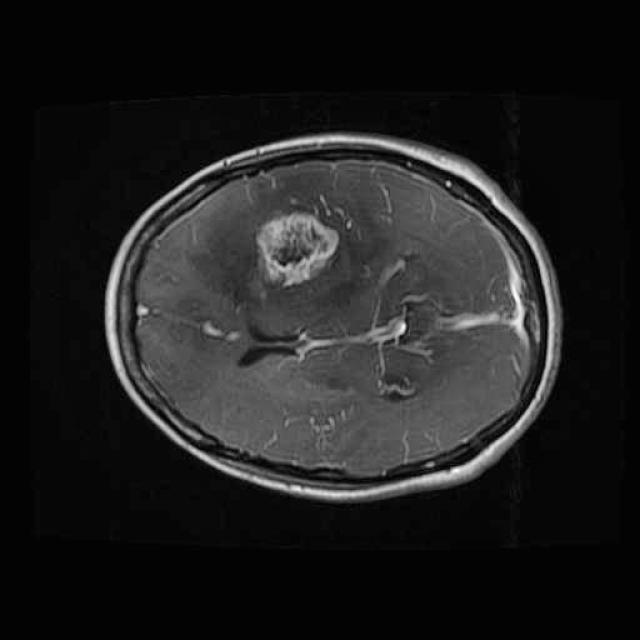Tumor: (248, 209, 346, 293)
